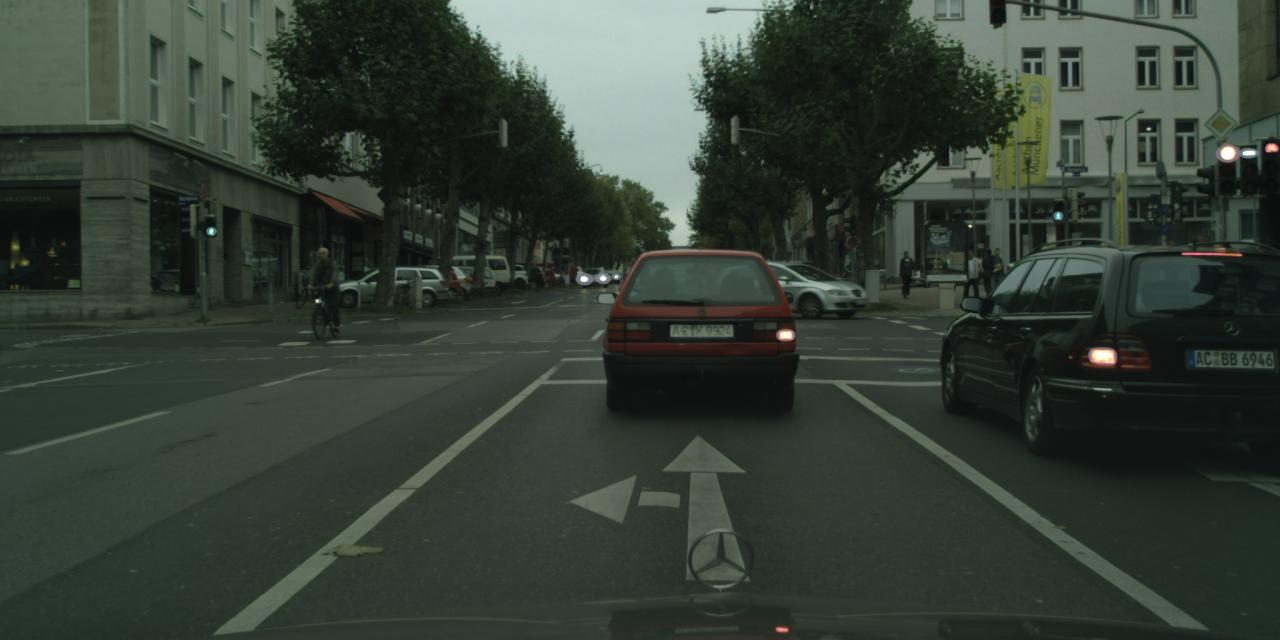ped: (311, 246, 341, 321), (958, 249, 980, 305), (988, 248, 1008, 302), (979, 248, 999, 298), (896, 250, 915, 297)
